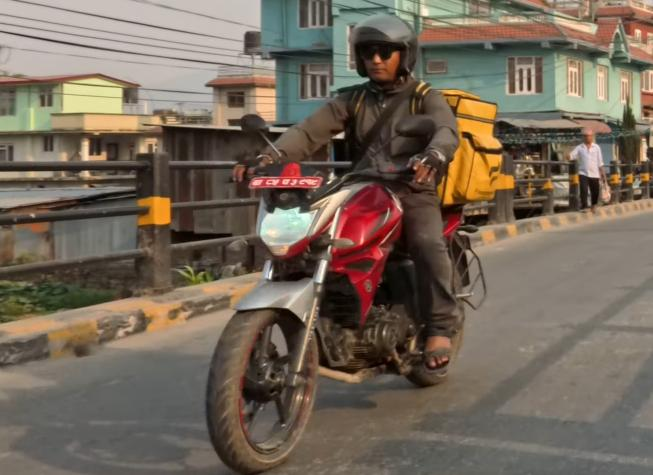bike: (195, 101, 489, 475)
